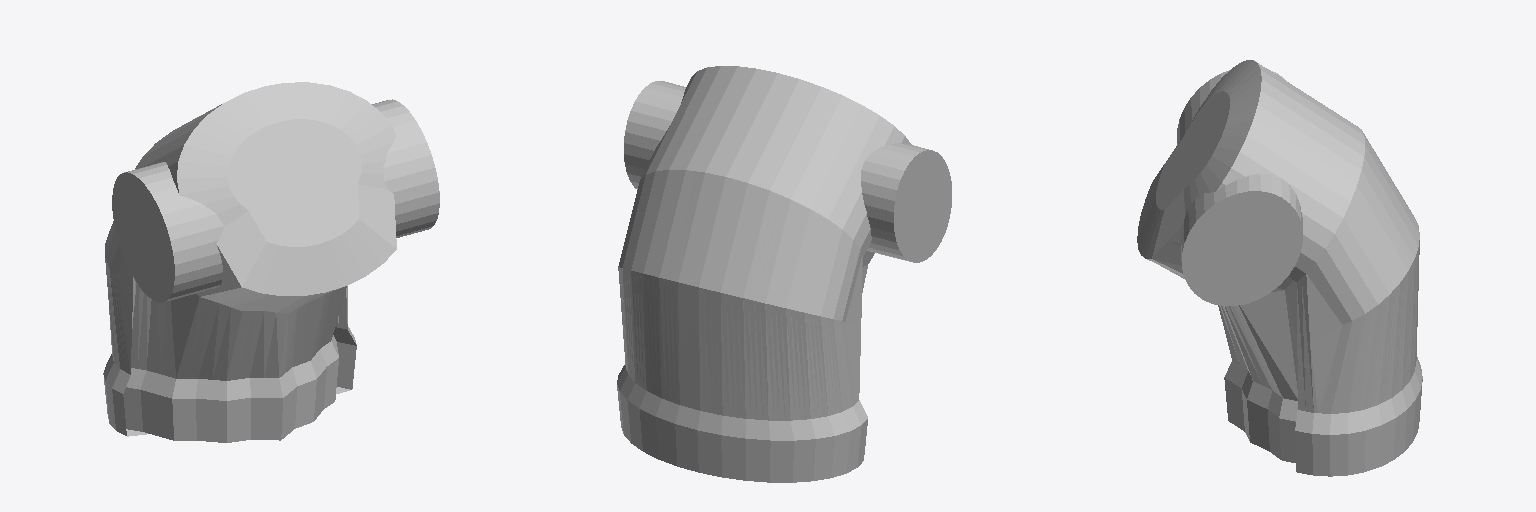
File: Torso.obj
3 renders of one model, left to right at view 1: azimuth 30°, elevation 25°; view 2: azimuth 150°, elevation 25°; view 3: azimuth 270°, elevation 25°, orthographic.
Parts seen in each view (by area): view 1: Cylinder; view 2: Cylinder; view 3: Cylinder.
Part boxes in pixels (left/top/right/bottom): Cylinder: left=103, top=82, right=439, bottom=442; Cylinder: left=617, top=66, right=951, bottom=482; Cylinder: left=1137, top=60, right=1422, bottom=476.
Size of the model in its own units: 2.46 by 3.08 by 2.25.